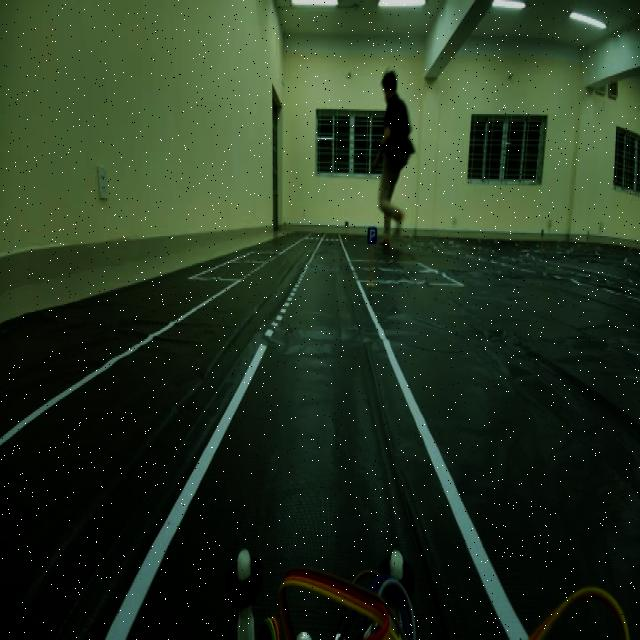parking: (364, 219, 378, 255)
